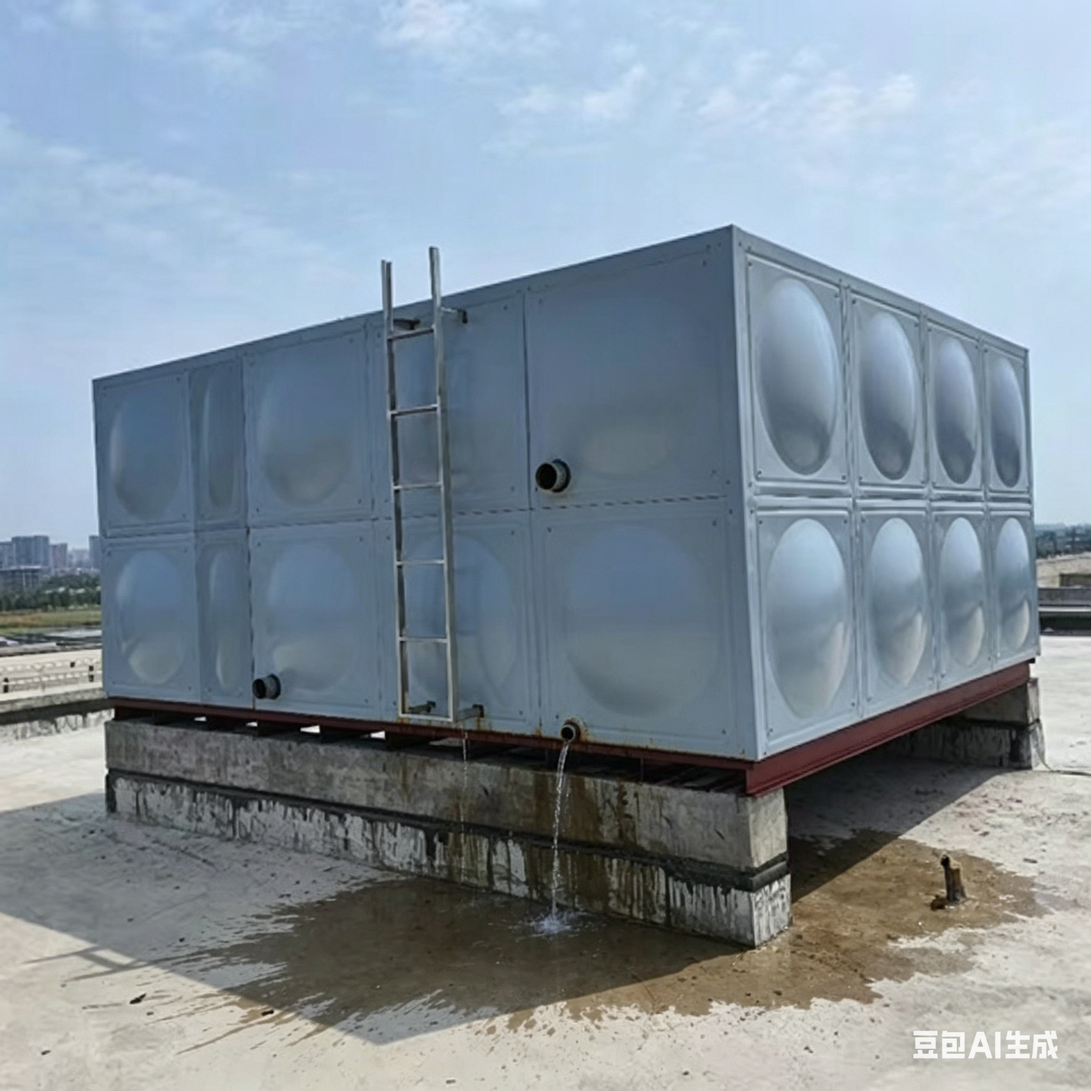Leakage: (363, 878, 818, 1015), (820, 846, 1029, 1003), (441, 704, 620, 868), (243, 906, 353, 1009)
